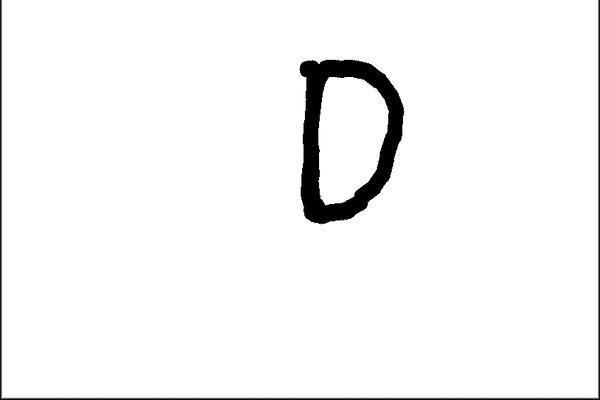D: (291, 50, 412, 226)
